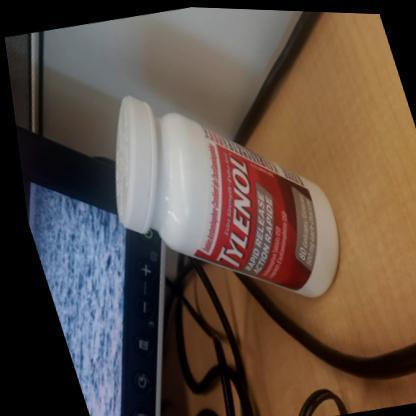jar: (73, 88, 369, 322)
